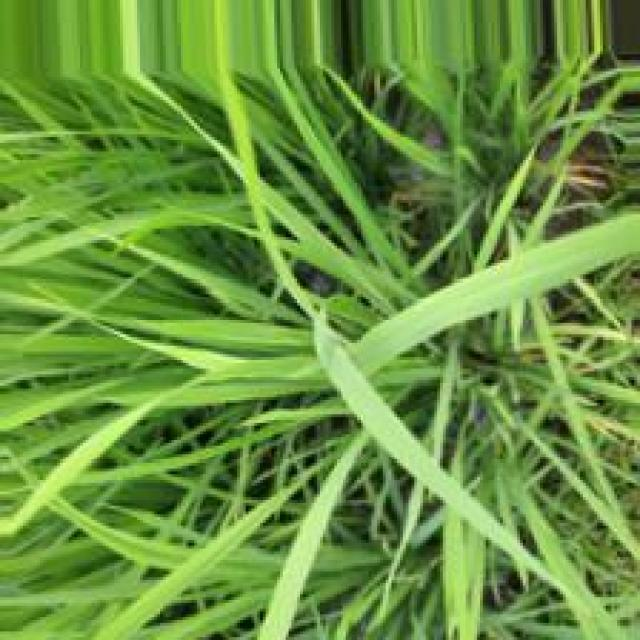HealthyLeaf: (312, 333, 569, 596), (352, 205, 640, 381)
